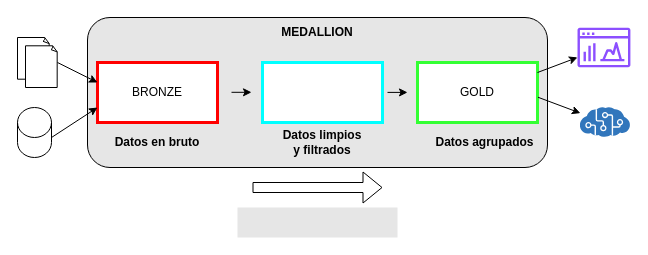
Some shapes in this 648 by 255 pixel diagram are drawn without their labels. The shapes that lost their labels are listed below. From the top down, each one's centre as x and y in pixels, then its label:
At (322,92): "SILVER".
At (317,222): "Mejora la Calidad del Dato".
